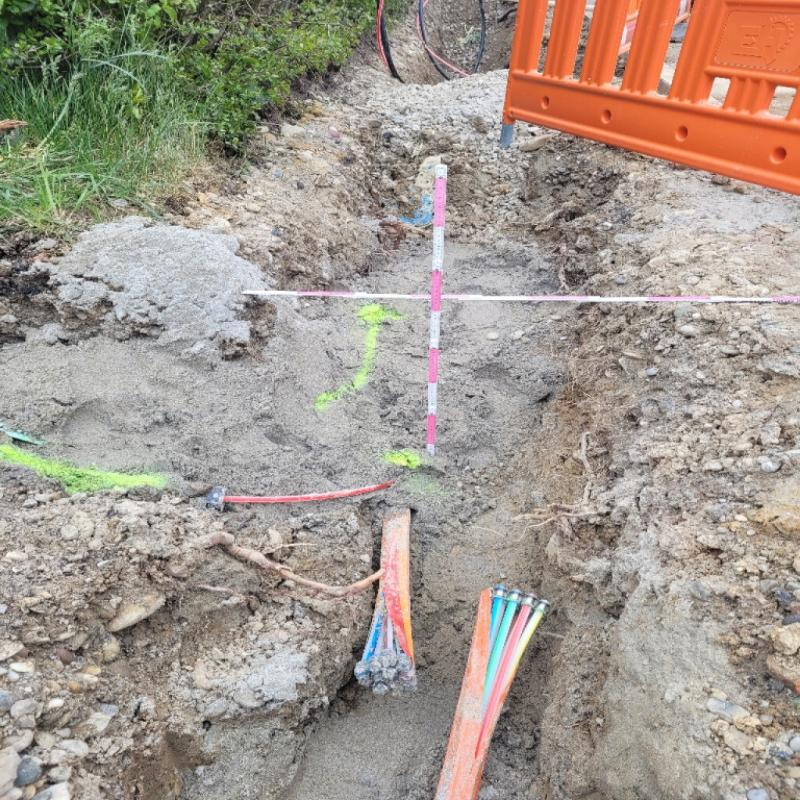Orang-Speednetrohrchen: (436, 585, 552, 797), (354, 510, 416, 696)
